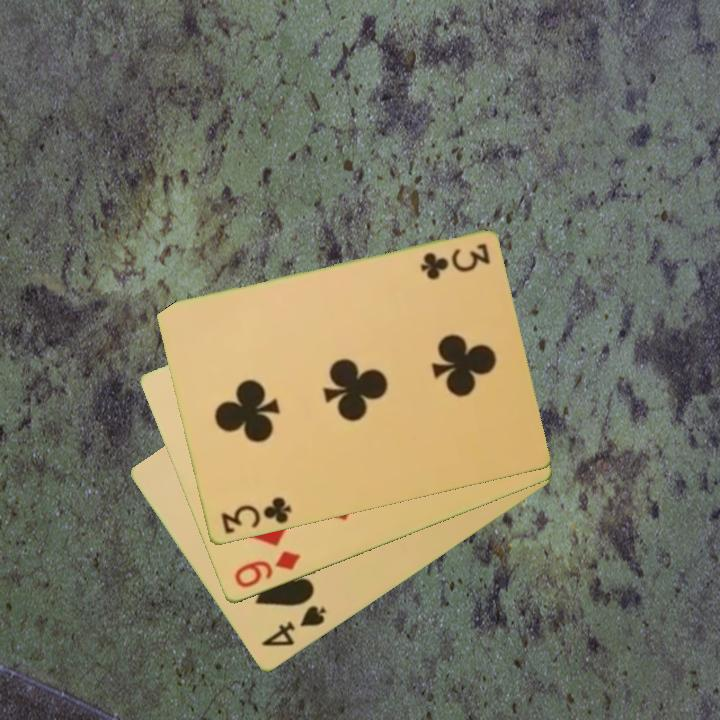3c: (217, 494, 295, 538), (416, 240, 493, 281)
4s: (257, 602, 329, 651)
9d: (230, 548, 303, 591)
